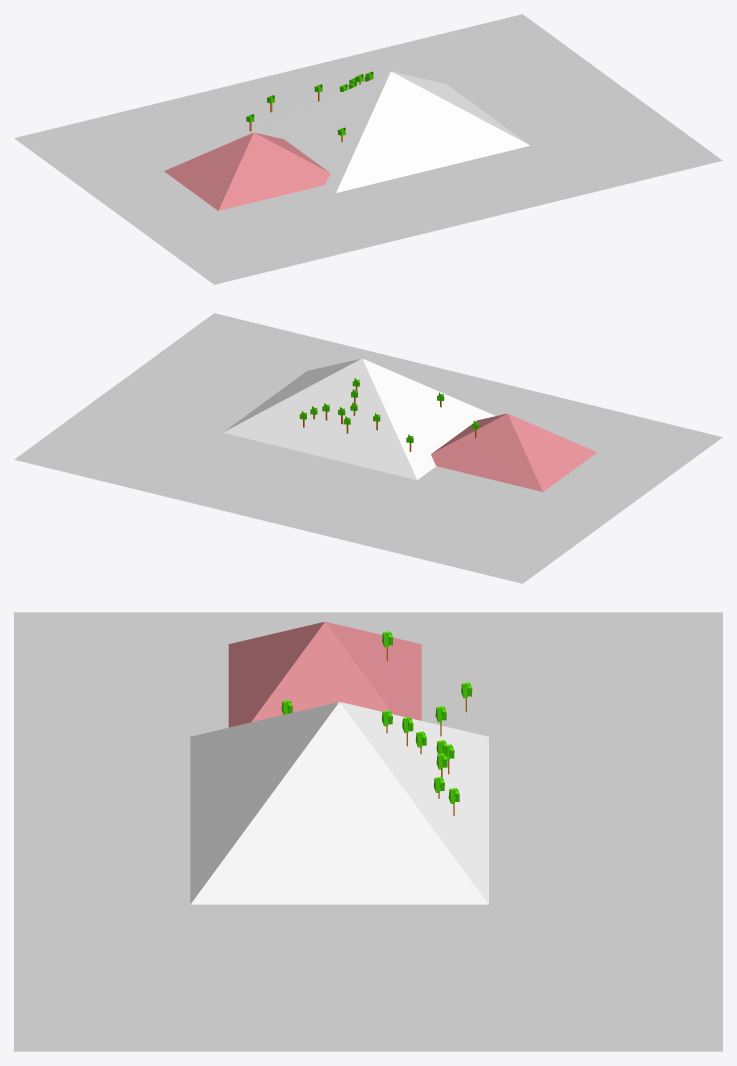
The model's file is mountain.glb.
The picture shows the model from 3 angles, top to bottom: view 1: azimuth 30°, elevation 25°; view 2: azimuth 150°, elevation 25°; view 3: azimuth 270°, elevation 25°; orthographic projection. The views are drawn at different scales.
Visible parts, largest first — view 1: Cube.030, Cube.031, Cube.001; view 2: Cube.030, Cube.031, Cube.001; view 3: Cube.030, Cube.031, Cube.001.
Boxes of the visible parts, box(x1,y1,x2,y2) form: Cube.030: box(14, 14, 722, 284); Cube.031: box(252, 71, 529, 192); Cube.001: box(164, 132, 330, 210); Cube.030: box(14, 313, 722, 583); Cube.031: box(223, 358, 495, 479); Cube.001: box(431, 413, 597, 491); Cube.030: box(14, 612, 722, 1051); Cube.031: box(190, 702, 488, 904); Cube.001: box(228, 622, 421, 727).
Bounding box in the file's own units: 999 × 150 × 681.
